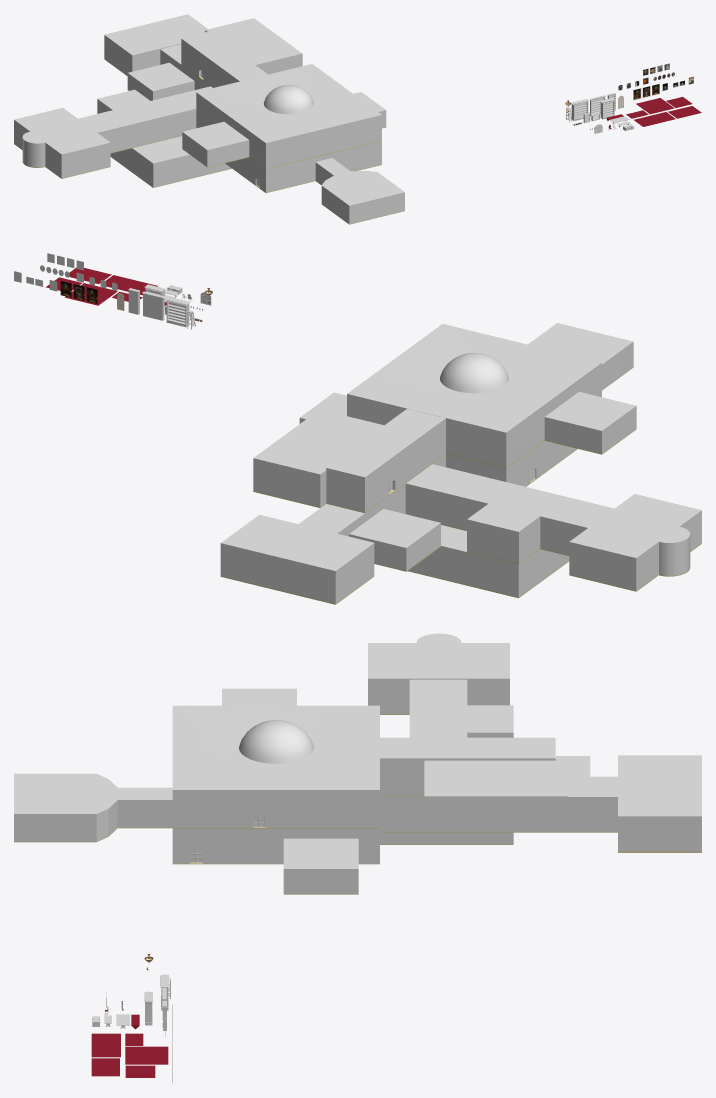
File: Library1.fbx
The picture shows the model from 3 angles, top to bottom: view 1: azimuth 30°, elevation 25°; view 2: azimuth 150°, elevation 25°; view 3: azimuth 270°, elevation 25°; orthographic projection. The views are drawn at different scales.
Parts seen in each view (by area): view 1: CeilingMainRoom, WallsMainRoom.003, WallsMainRoom, BigCorridorCeiling2, CeilingMedRoom3, WallsMediumRoom3, CeilingMedRoom.2, CeilingMedRoom, BigCorridorWalls2, WallsBasement, CeilingEntrance, MedCorridorCeiling (+13 smaller); view 2: CeilingMainRoom, BigCorridorCeiling2, BigCorridorWalls2, WallsMedRoom, WallsMainRoom.003, CeilingMedRoom3, CeilingMedRoom, WallsMediumRoom3, CeilingMedRoom.2, WallsBasement, MedCorridor, MedCorridorCeiling (+14 smaller); view 3: CeilingMainRoom, WallsMainRoom.003, CeilingMedRoom3, CeilingMedRoom.2, CeilingMedRoom, WallsMainRoom, WallsMedRoom2, BigCorridorCeiling2, CeilingEntrance, MedCorridorCeiling, MedCorridor.001, WallsMedRoom (+12 smaller).
Part boxes in pixels (bbox=[...]): CeilingMainRoom: bbox=[196, 64, 381, 145]; WallsMainRoom.003: bbox=[196, 95, 381, 168]; WallsMainRoom: bbox=[196, 119, 381, 192]; BigCorridorCeiling2: bbox=[78, 86, 212, 133]; CeilingMedRoom3: bbox=[14, 107, 110, 154]; WallsMediumRoom3: bbox=[14, 120, 110, 178]; CeilingMedRoom.2: bbox=[205, 18, 302, 65]; CeilingMedRoom: bbox=[104, 14, 207, 55]; BigCorridorWalls2: bbox=[97, 99, 196, 152]; WallsBasement: bbox=[110, 148, 231, 187]; CeilingEntrance: bbox=[321, 170, 404, 208]; MedCorridorCeiling: bbox=[181, 31, 267, 81]; CeilingMainRoom: bbox=[347, 324, 601, 435]; BigCorridorCeiling2: bbox=[406, 464, 614, 532]; BigCorridorWalls2: bbox=[405, 484, 586, 563]; WallsMedRoom: bbox=[220, 544, 374, 603]; WallsMainRoom.003: bbox=[347, 366, 601, 467]; CeilingMedRoom3: bbox=[569, 494, 701, 558]; CeilingMedRoom: bbox=[220, 514, 374, 571]; WallsMediumRoom3: bbox=[569, 511, 701, 590]; CeilingMedRoom.2: bbox=[253, 409, 383, 475]; WallsBasement: bbox=[408, 546, 569, 597]; MedCorridor: bbox=[326, 422, 445, 512]; MedCorridorCeiling: bbox=[326, 408, 445, 480]; CeilingMainRoom: bbox=[172, 705, 379, 793]; WallsMainRoom.003: bbox=[172, 793, 379, 827]; CeilingMedRoom3: bbox=[368, 633, 509, 679]; CeilingMedRoom.2: bbox=[424, 760, 568, 797]; CeilingMedRoom: bbox=[618, 755, 701, 817]; WallsMainRoom: bbox=[172, 829, 379, 863]; WallsMedRoom2: bbox=[424, 797, 568, 831]; BigCorridorCeiling2: bbox=[409, 679, 513, 737]; CeilingEntrance: bbox=[14, 773, 117, 817]; MedCorridorCeiling: bbox=[380, 737, 555, 761]; MedCorridor.001: bbox=[380, 798, 617, 831]; WallsMedRoom: bbox=[618, 817, 701, 851].
Size of the model in its own units: 211 by 31.26 by 145.
